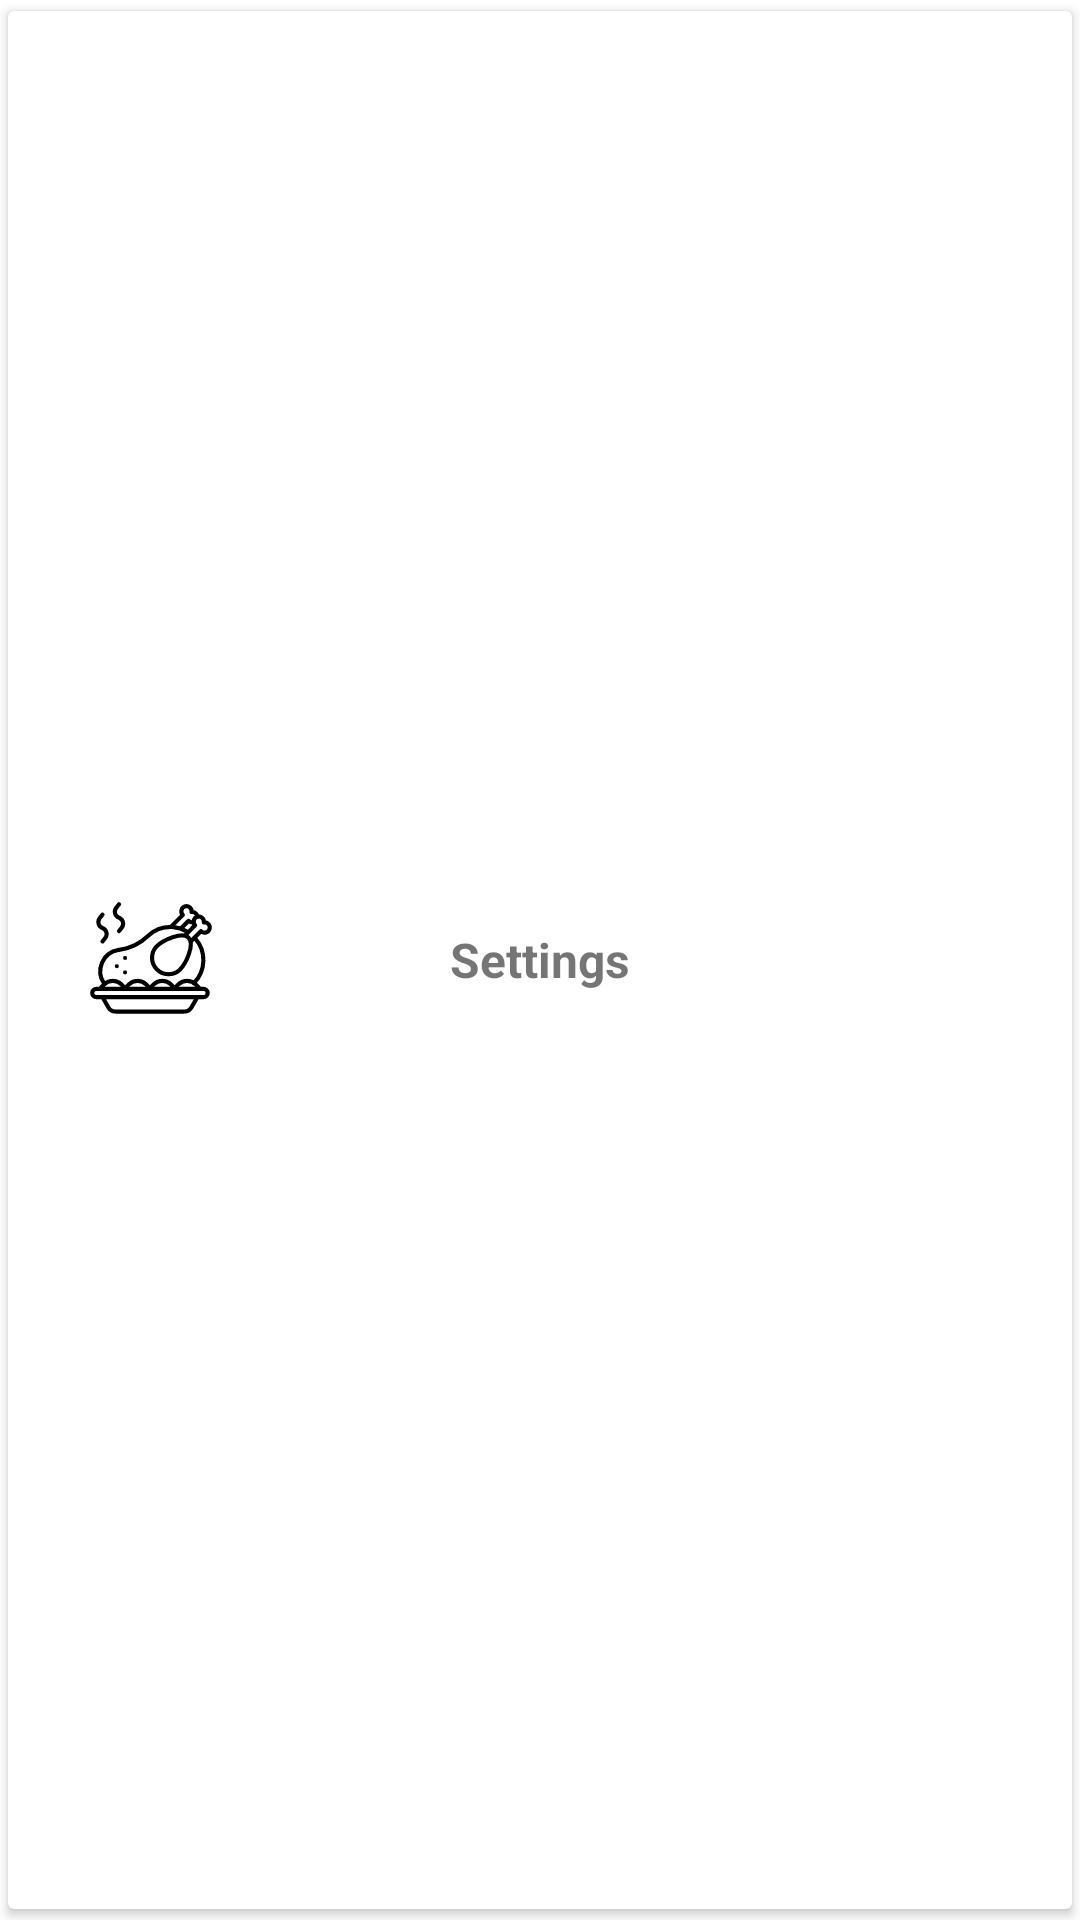

Screen size 1080px x 1920px. Icon name, then its box in pixels as (x1, y1, x2, y2):
chicken: (90, 902, 212, 1014)
